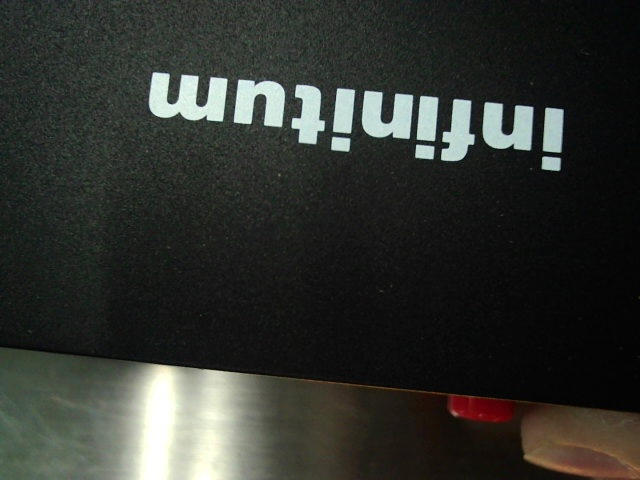BK_infinitum: (138, 53, 569, 182)
